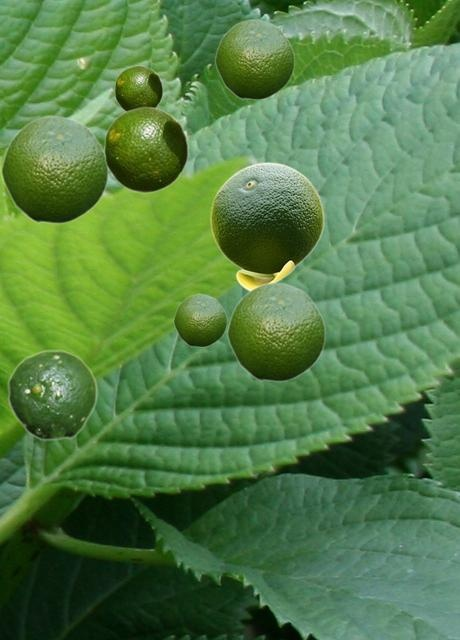calamansi: (210, 162, 323, 290), (0, 114, 108, 223), (226, 281, 325, 381), (7, 349, 97, 440), (103, 106, 188, 192), (214, 18, 294, 99), (173, 293, 226, 346), (114, 65, 162, 110)
